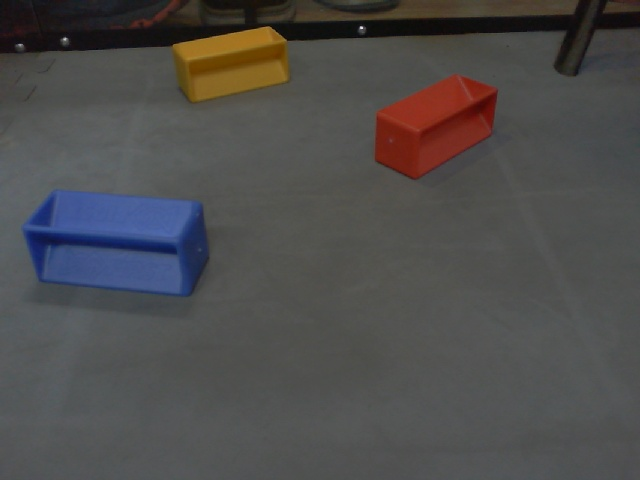BlueSample: (19, 189, 211, 298)
RedSample: (374, 74, 498, 180)
YellowSample: (169, 21, 290, 106)
